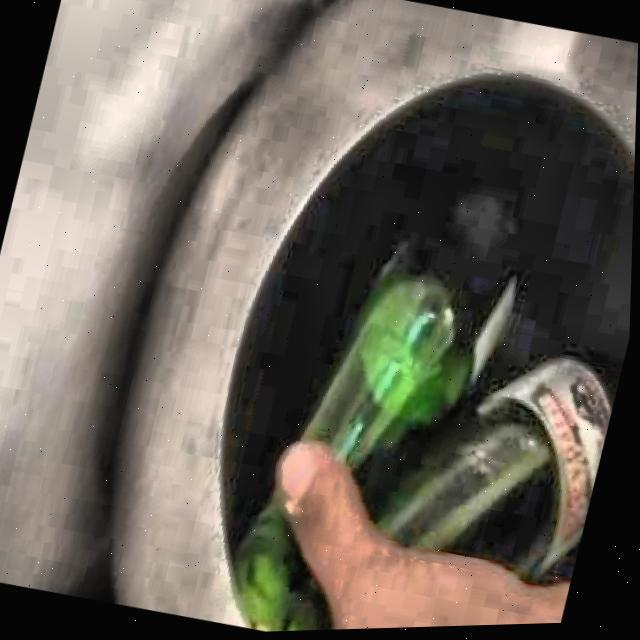glass: (305, 193, 616, 583), (235, 500, 339, 633)
